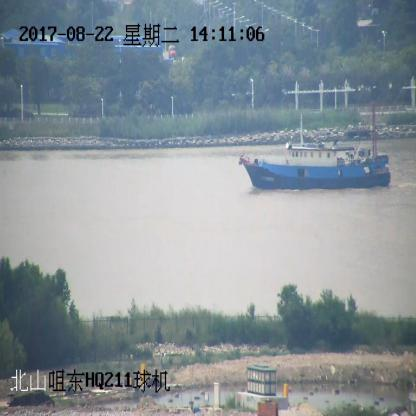Fishing Boat: (240, 109, 391, 190)
